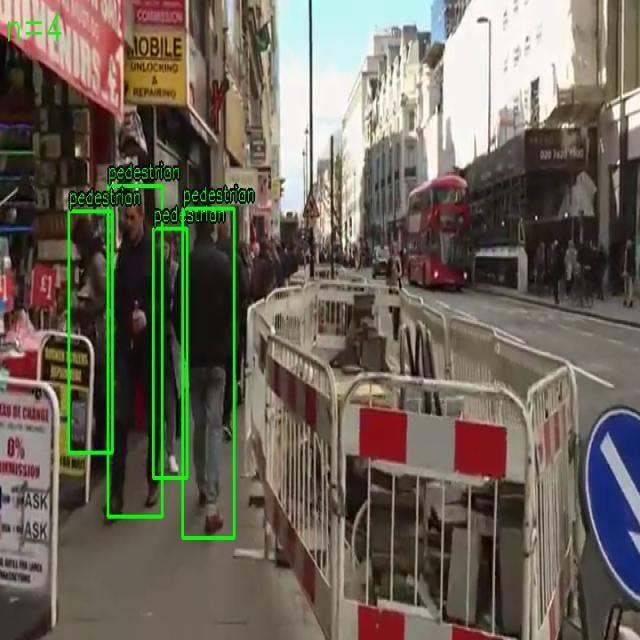person: (108, 185, 162, 518), (182, 208, 235, 539), (68, 211, 112, 453), (152, 228, 188, 478)
